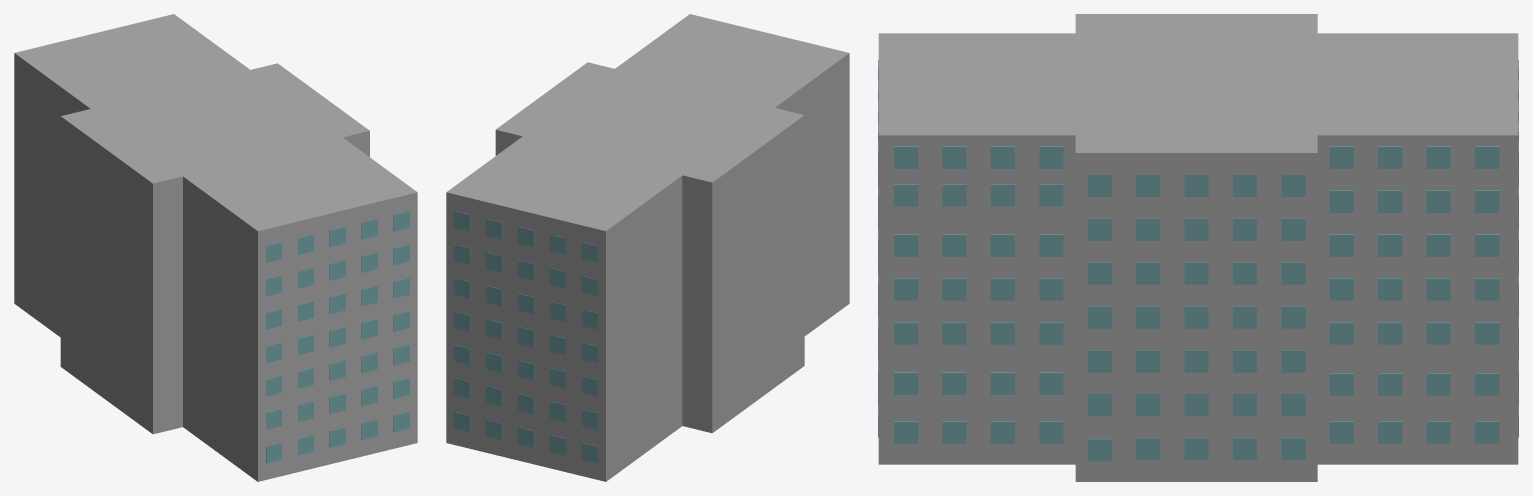
File: Building_007_City_005.fbx
3 renders of one model, left to right at view 1: azimuth 30°, elevation 25°; view 2: azimuth 150°, elevation 25°; view 3: azimuth 270°, elevation 25°, orthographic. The views are drawn at different scales.
Visible parts, largest first — view 1: pCube60; view 2: pCube60; view 3: pCube60.
Boxes of the visible parts, box(x1,y1,x2,y2) form: pCube60: box(14, 14, 417, 481); pCube60: box(446, 14, 849, 481); pCube60: box(878, 14, 1518, 481).
Bounding box in the file's own units: 1366 × 1500 × 2647.
